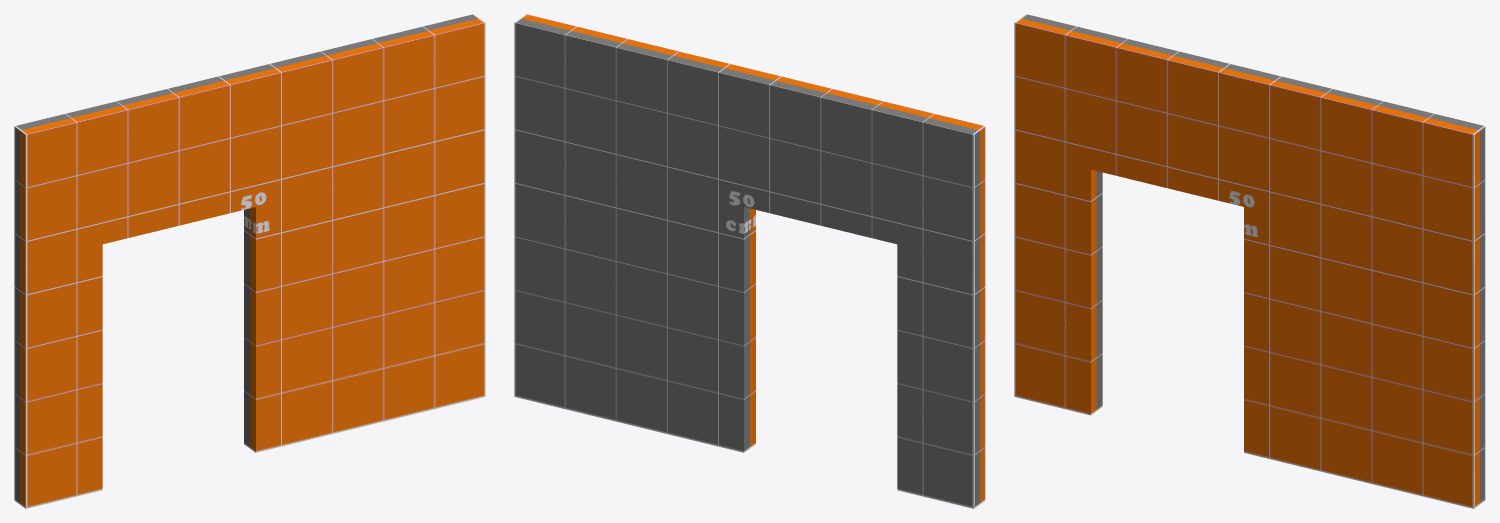
File: M01WallDoorTypeA_2.FBX
The picture shows the model from 3 angles, left to right: view 1: azimuth 30°, elevation 25°; view 2: azimuth 150°, elevation 25°; view 3: azimuth 330°, elevation 25°; orthographic projection.
Parts seen in each view (by area): view 1: M01WallDoorTypeA_2; view 2: M01WallDoorTypeA_2; view 3: M01WallDoorTypeA_2.
Boxes of the visible parts, x1,y1,x2,y2 form: M01WallDoorTypeA_2: [14, 14, 485, 508]; M01WallDoorTypeA_2: [514, 14, 985, 508]; M01WallDoorTypeA_2: [1014, 14, 1485, 508].
Size of what is drawn, in the model's own units: 4.5 by 3.5 by 0.2.
